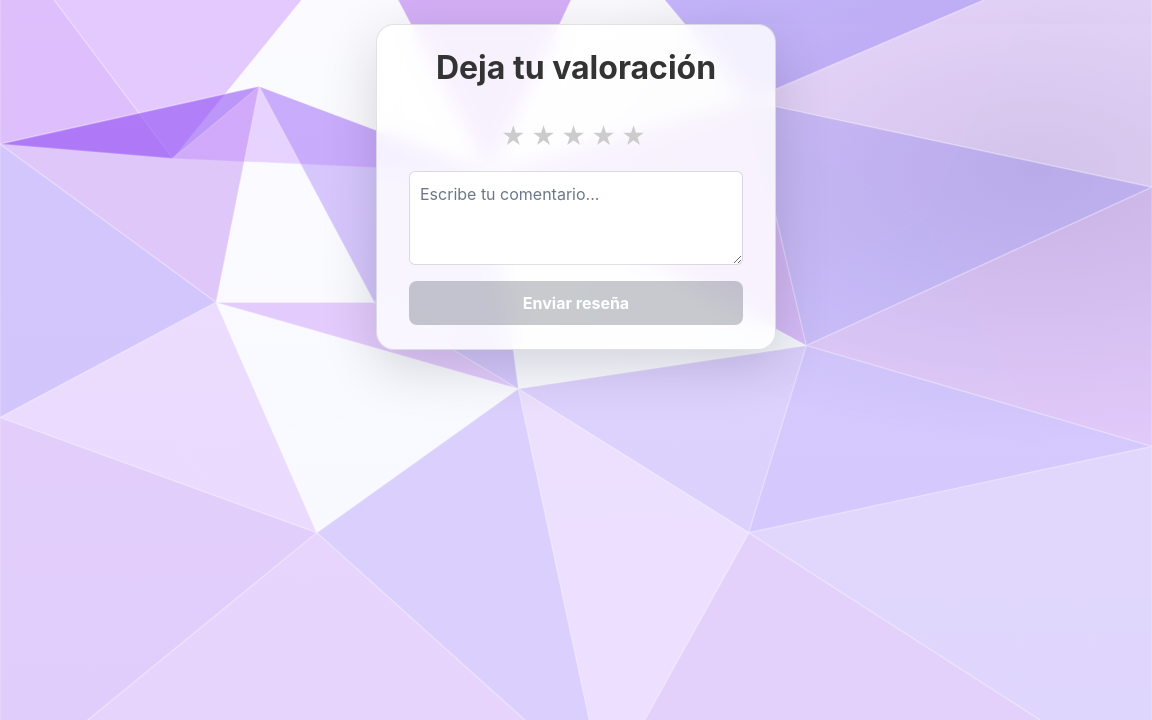
Valoraciones - Alto Impacto › Rating › habilita botón solo cuando rating > 0
Expected: the button "Enviar reseña" is disabled, [409,281,743,325]
Click the 4th text "★".
click(604, 137)  # box [591,122,616,151]
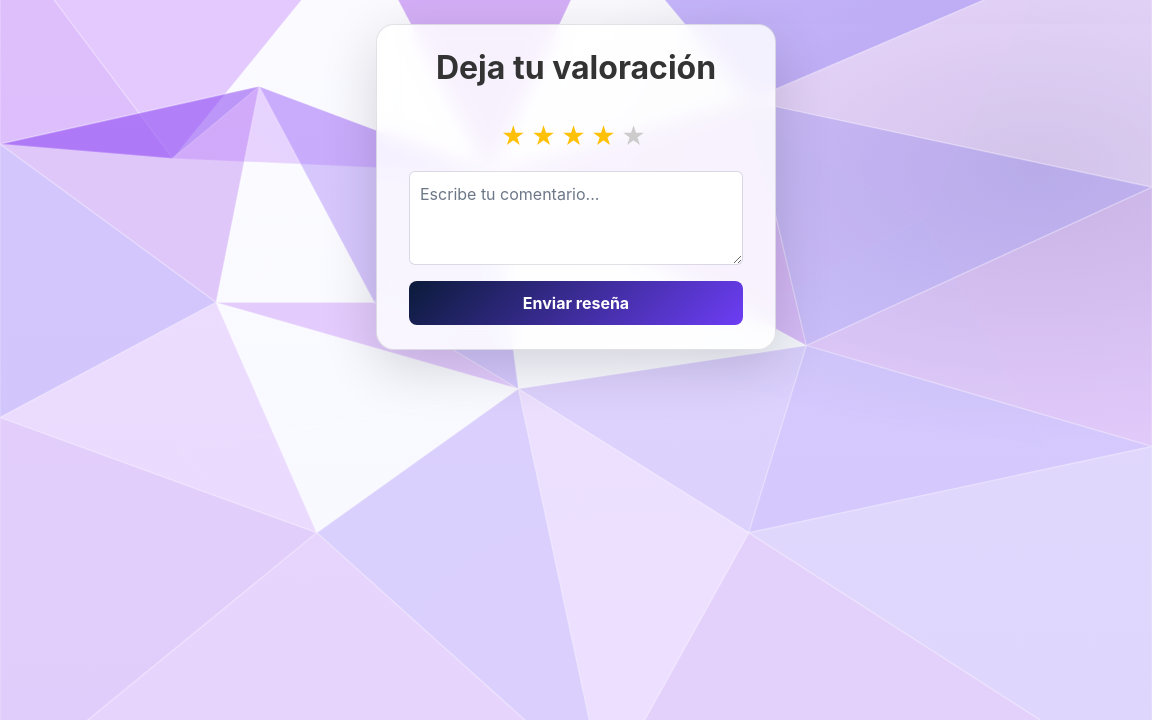
Expected: the button "Enviar reseña" is enabled, [409,281,743,325]
